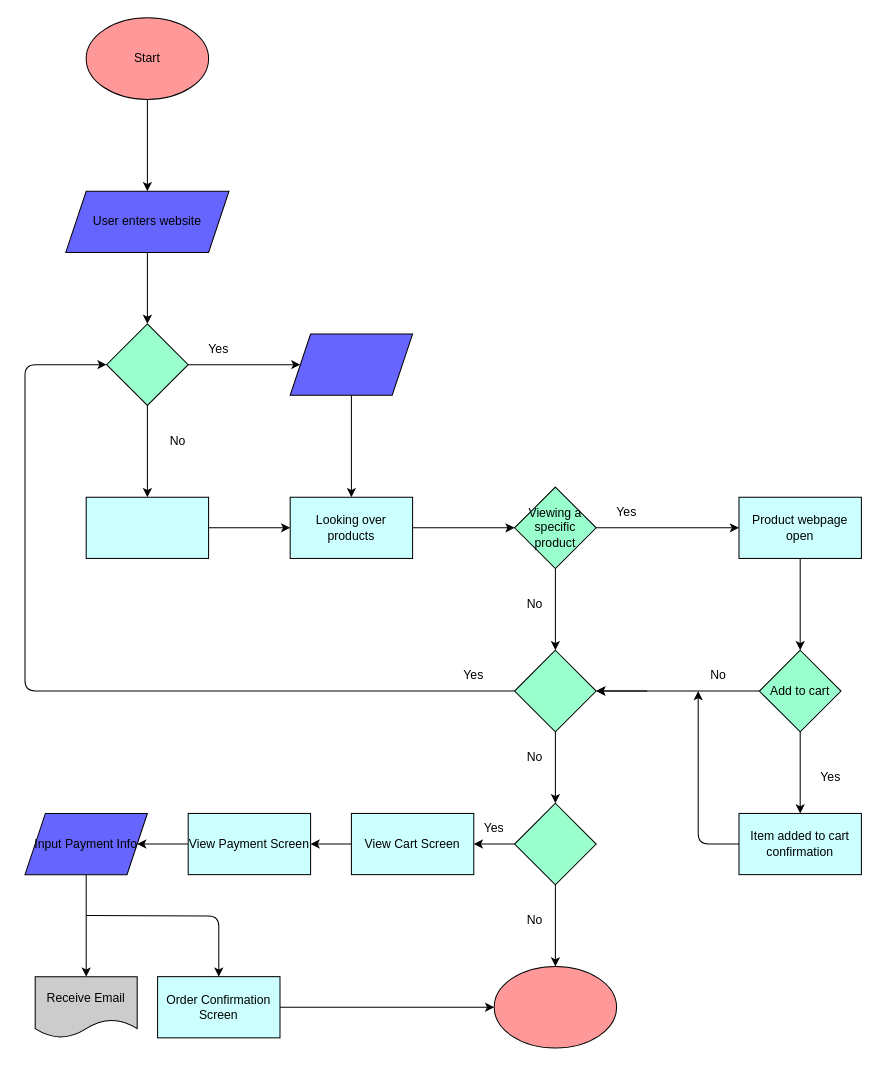
Image size: 879x1066. Some labels were removed from this diagram. The shapes that lost their labels are listed below. From the top down, each one's centre as x and y in pixels, then its label:
pixel 147 364: Search for Product
pixel 351 364: Search provided by user
pixel 147 527: Looking at explore page
pixel 555 690: Continue Shopping
pixel 555 843: Checkout
pixel 555 1006: Leave Website
